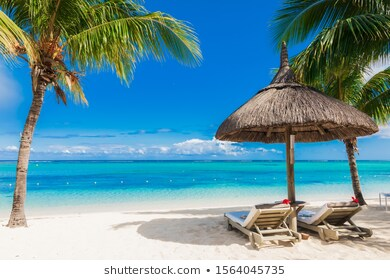beach: (3, 158, 390, 260)
tree: (1, 1, 148, 218), (302, 6, 390, 198)
